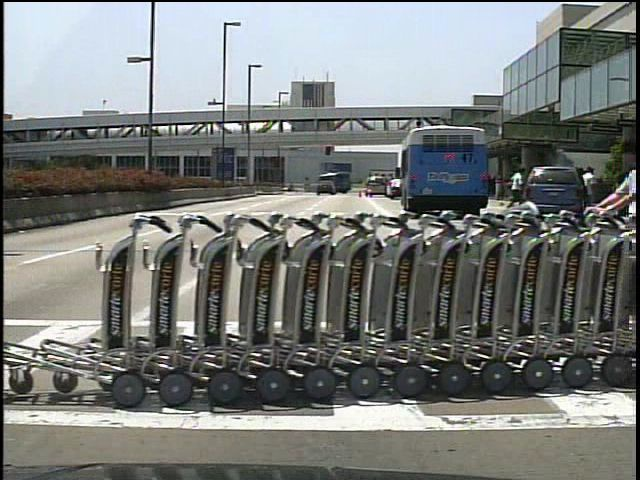person: (580, 165, 601, 214), (574, 164, 591, 221), (508, 163, 523, 212)
